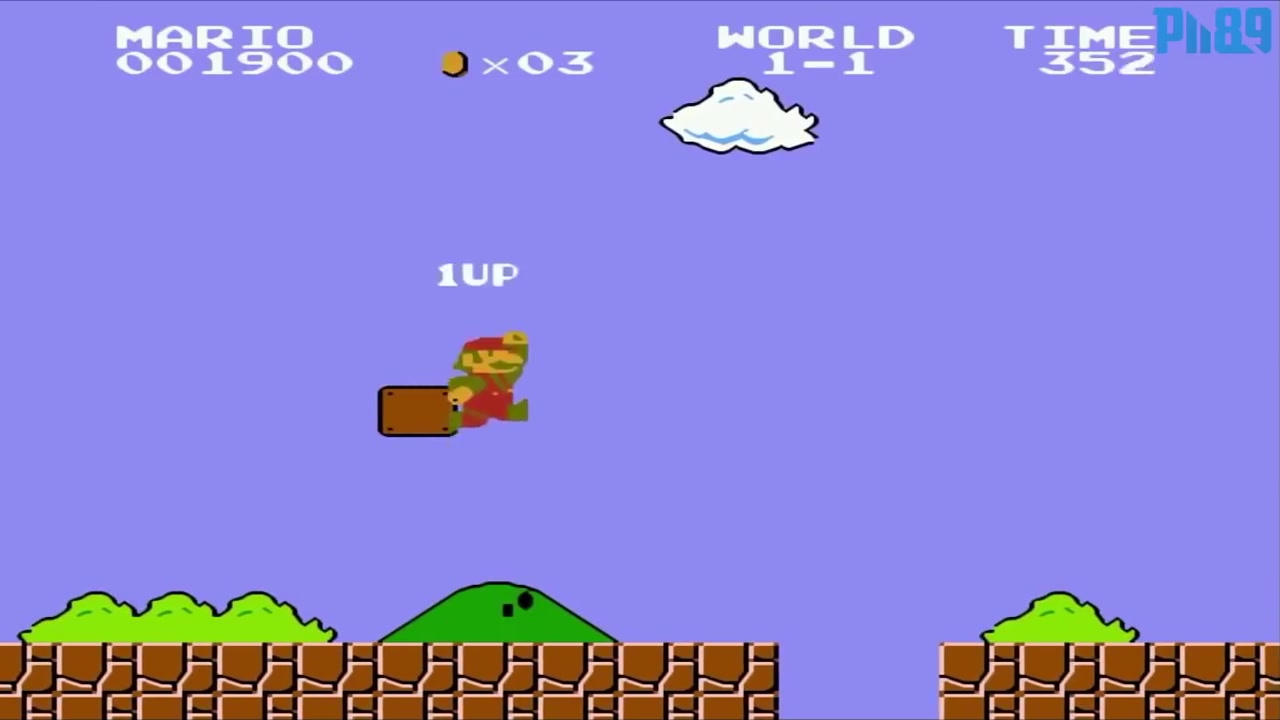mario: (435, 323, 538, 440)
